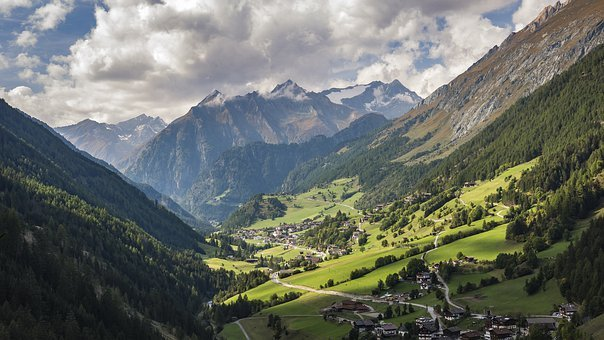field: (220, 198, 604, 337)
mountain: (10, 122, 217, 340), (171, 88, 418, 187), (430, 19, 604, 159)
sky: (2, 3, 485, 93)
